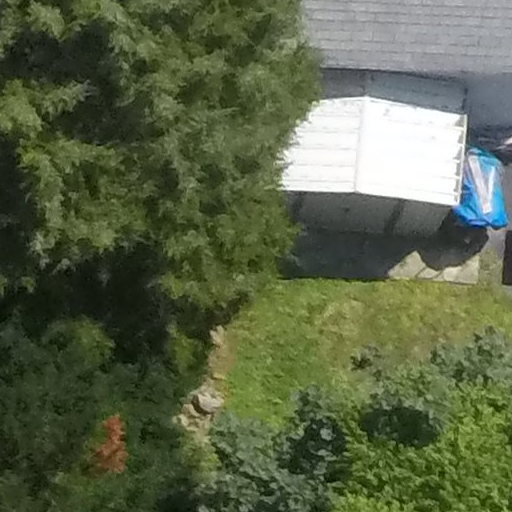tarp: (451, 140, 505, 249)
